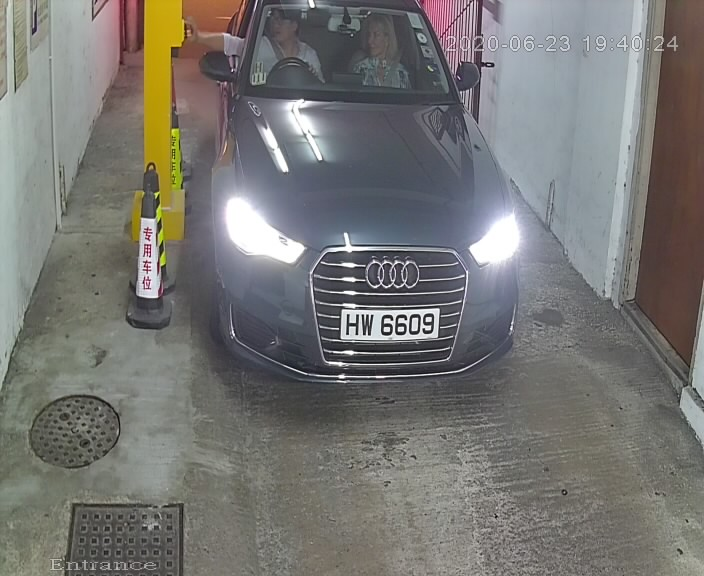privatecar: (187, 2, 527, 406)
